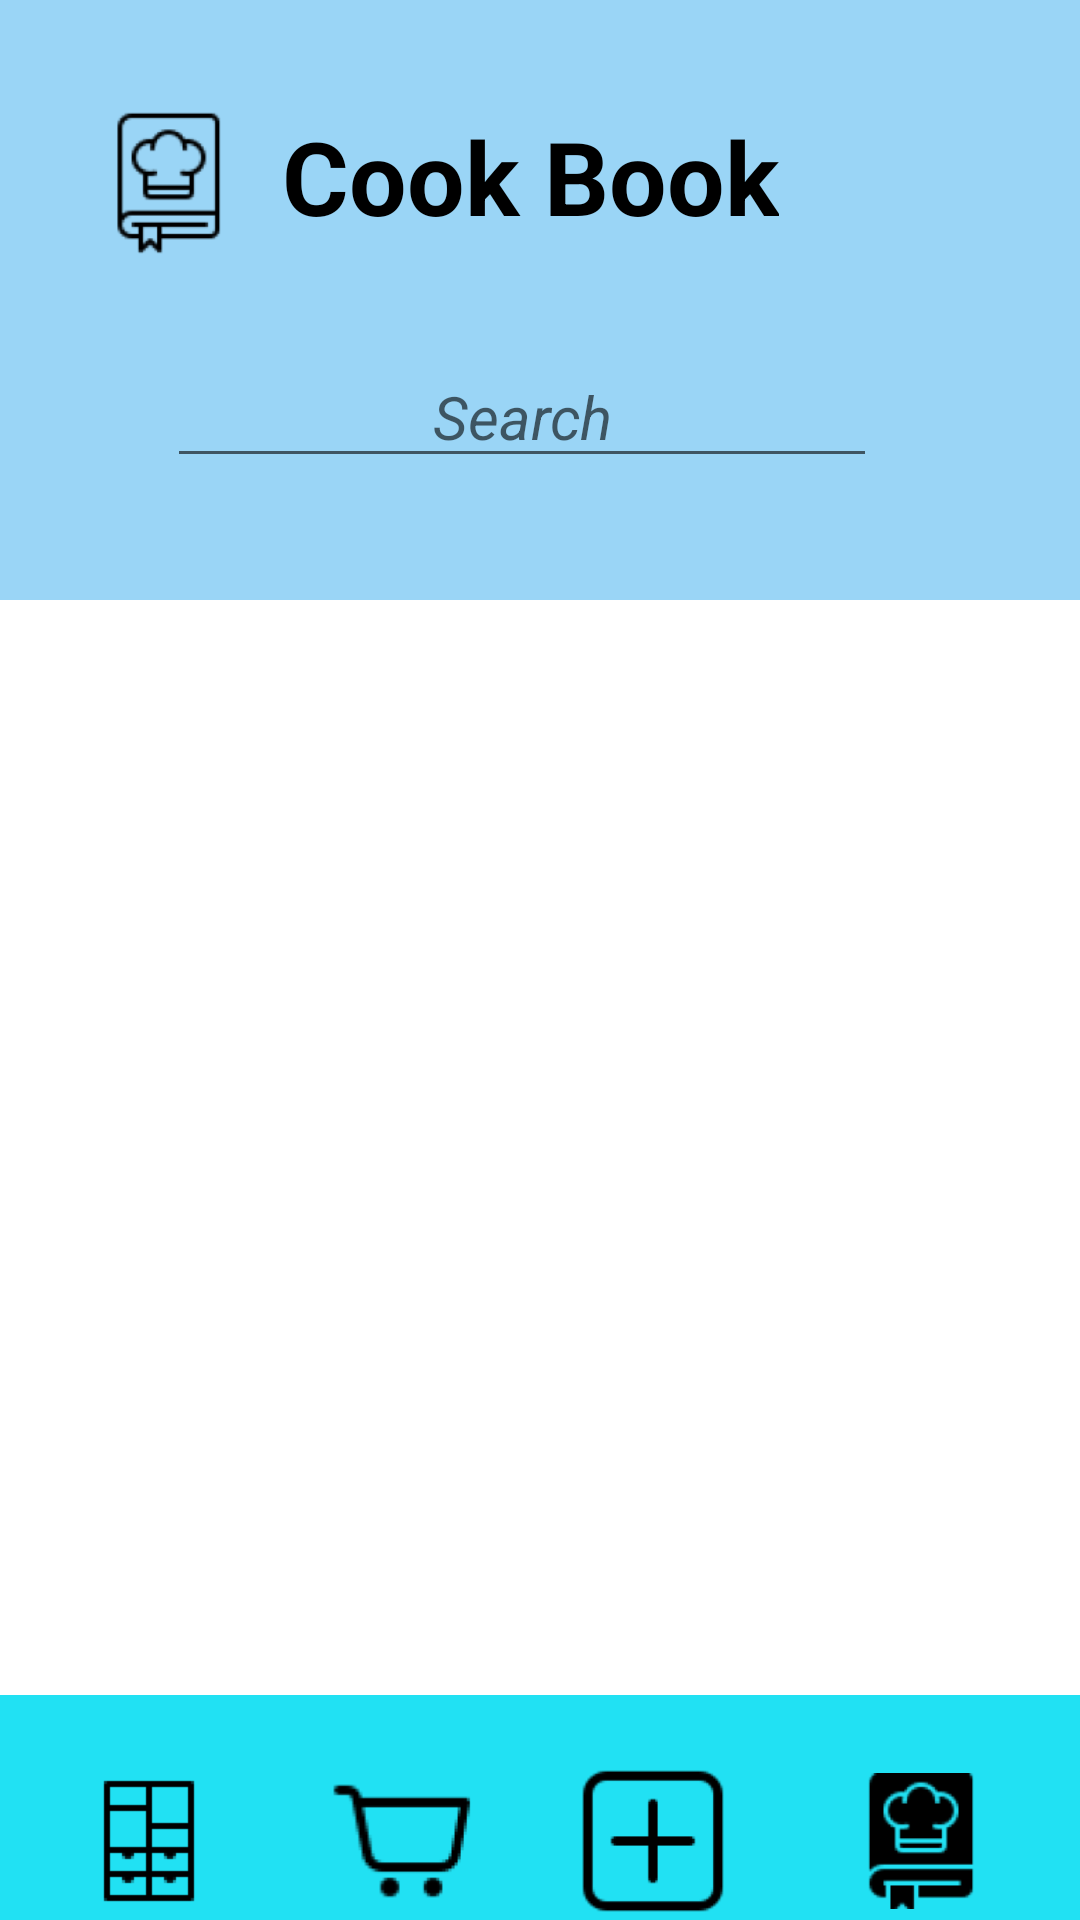

Icons on this 1080px×1920px Android screen, each with the point to tap as point (x, y):
add: point (653, 1841)
cart: point (401, 1841)
incookbook: point (921, 1841)
notpantry: point (149, 1841)
